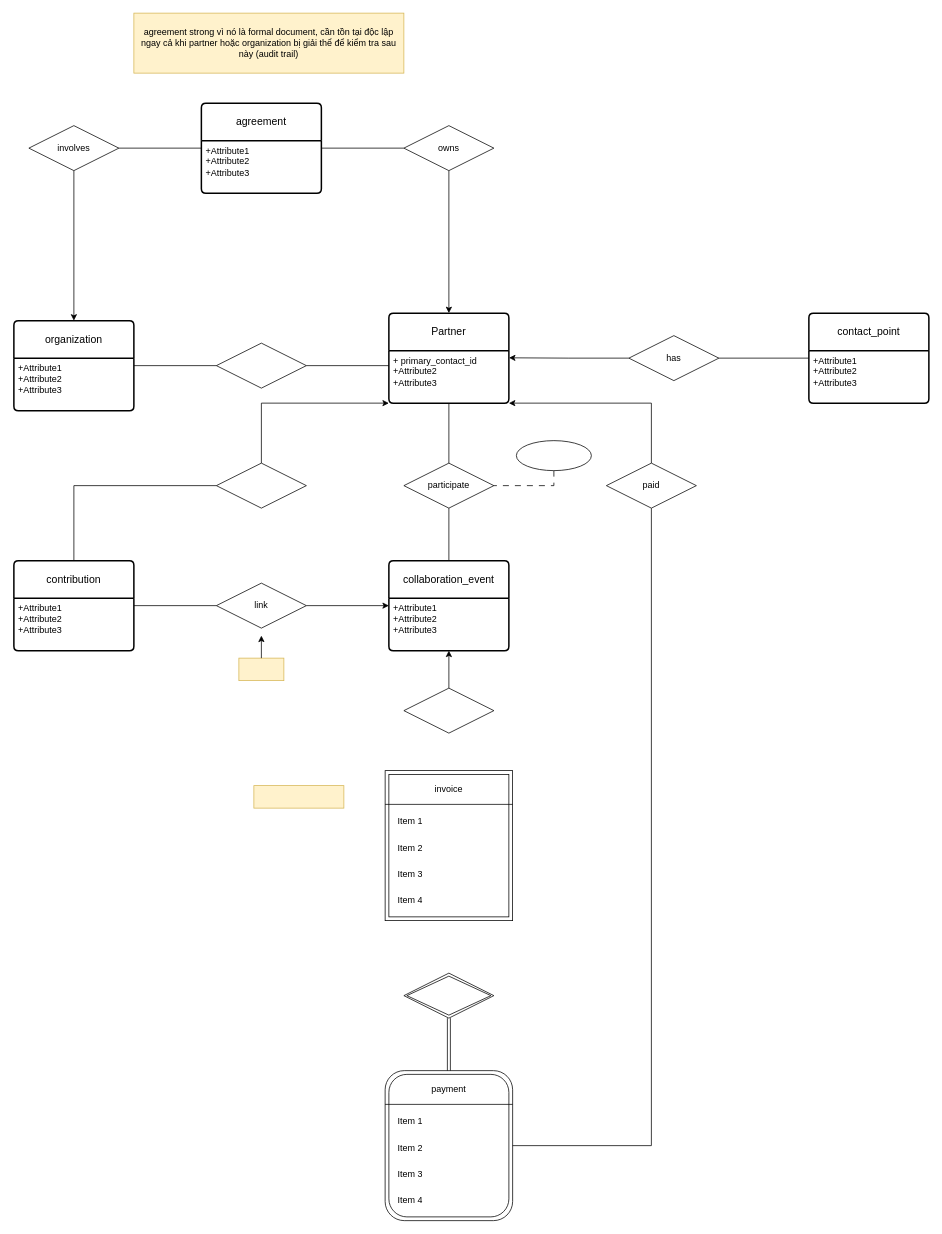
This 942x1234 diagram has some shape labels left out. Here are the shapes that lost their labels. From the top down, the centre of each, then its label:
(261,365): affiliate
(553,455): is_primary
(261,485): sponsor
(261,669): optional relationship
(448,710): generate
(298,796): invoice có weak không??
(448,995): invoice_payment
